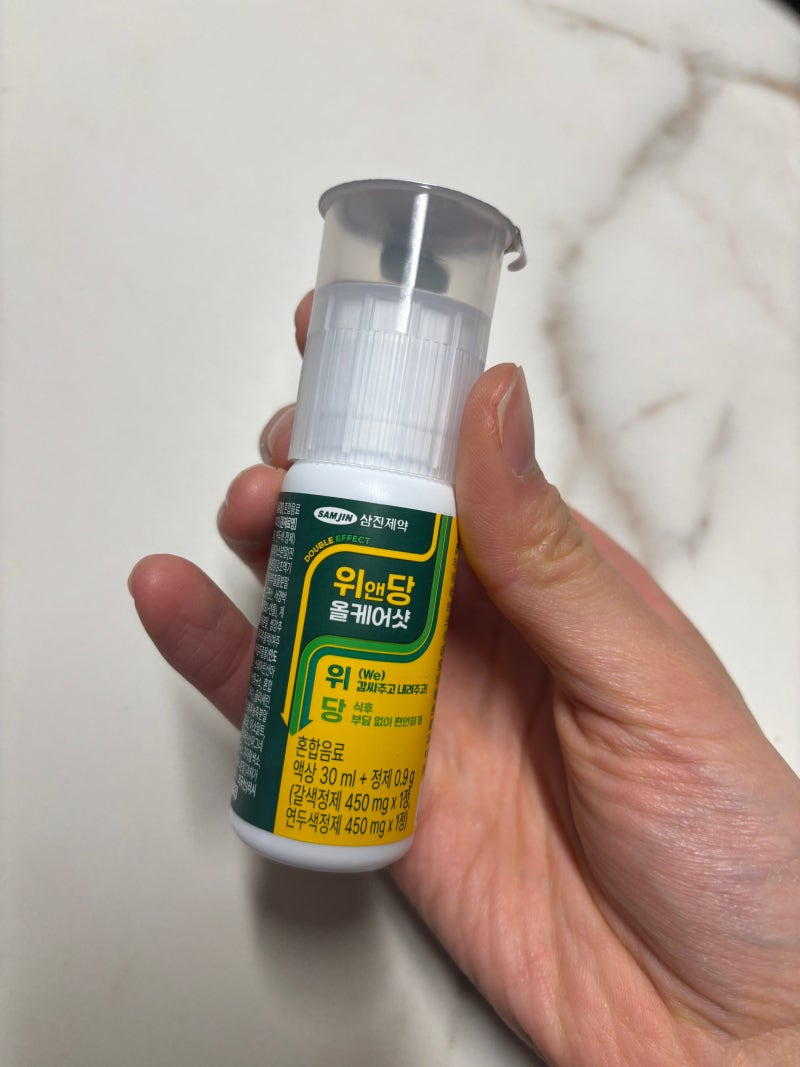supplement_label: (213, 477, 468, 853)
